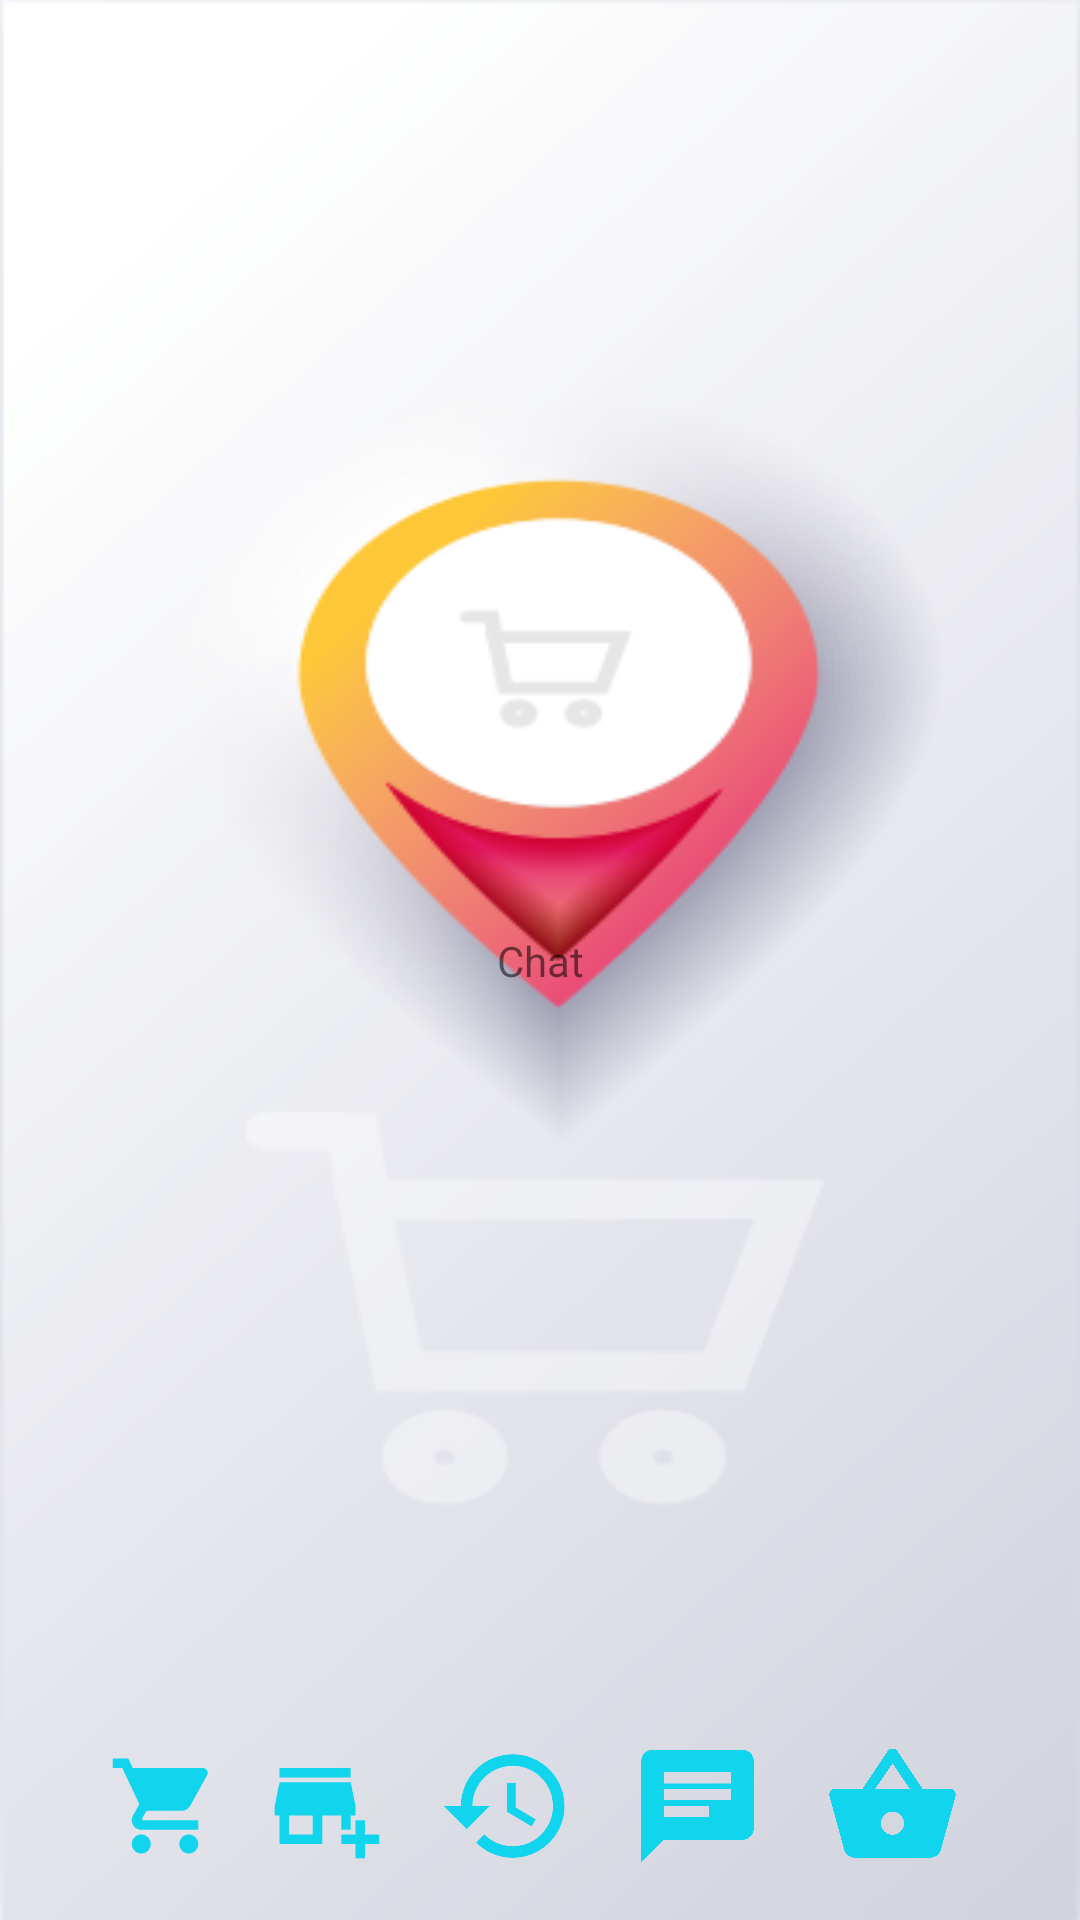

Icons on this 1080px×1920px Android screen, each with its box as [x1, y1, x2, y2]:
Chat: [641, 1750, 754, 1862]
Historico: [444, 1754, 565, 1858]
tienda: [274, 1768, 380, 1859]
